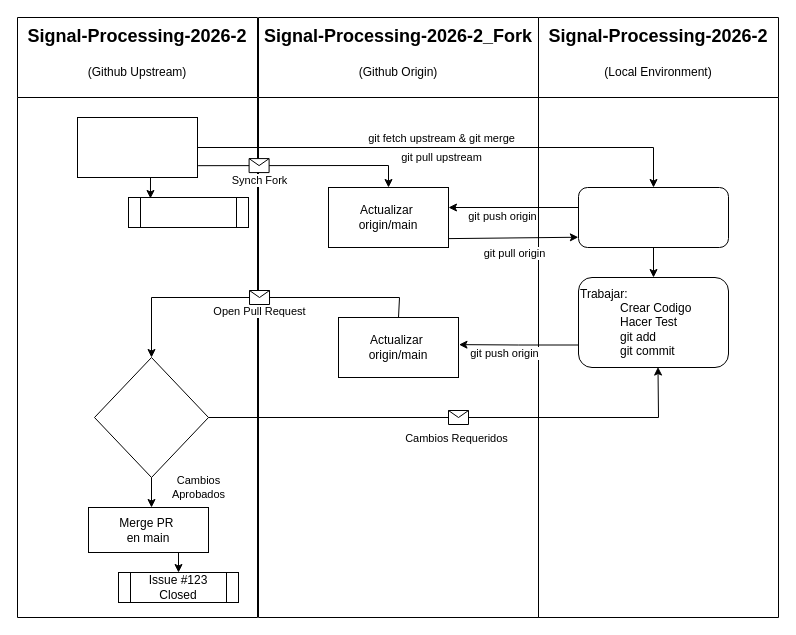
Image size: 796x635. Some labels were removed from this diagram. The shapes that lost their labels are listed below. From the top down, each one's centre as x and y in pixels, then its label:
(137,147): Rama main
(188,212): Open Issue #123
(653,217): Actualizar Local main
(151,417): Revisión
